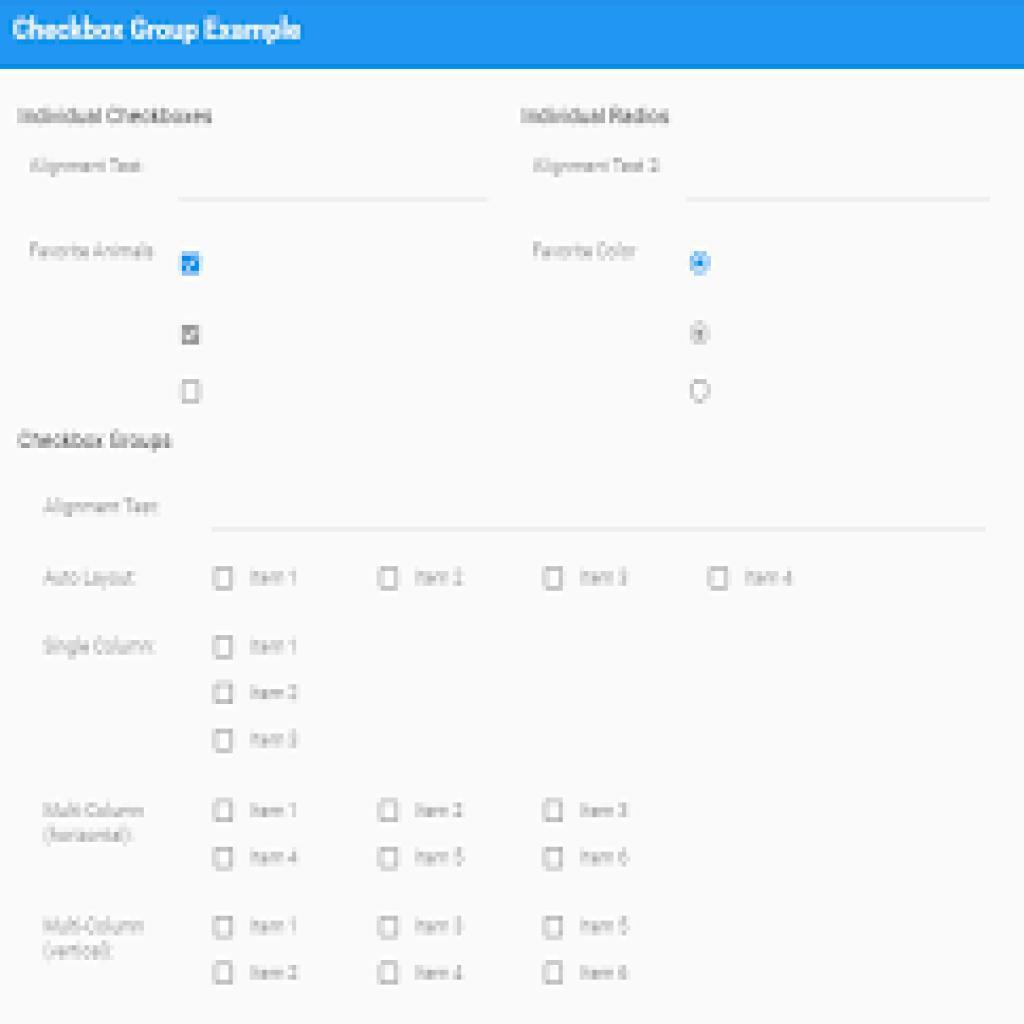checkbox: (207, 558, 241, 601), (373, 840, 406, 880), (374, 952, 404, 996), (540, 840, 570, 884), (208, 952, 242, 990), (701, 562, 735, 597), (540, 553, 567, 597), (207, 678, 241, 712), (209, 909, 244, 940), (212, 630, 241, 667), (177, 377, 203, 417), (209, 725, 240, 758), (542, 791, 564, 837), (542, 913, 568, 950), (208, 796, 236, 826), (376, 915, 402, 947), (376, 563, 402, 594), (211, 846, 237, 876), (377, 796, 402, 826), (542, 959, 567, 989), (179, 252, 205, 280), (181, 321, 204, 351)
radio: (688, 252, 717, 293), (688, 377, 718, 411), (687, 318, 716, 353)
